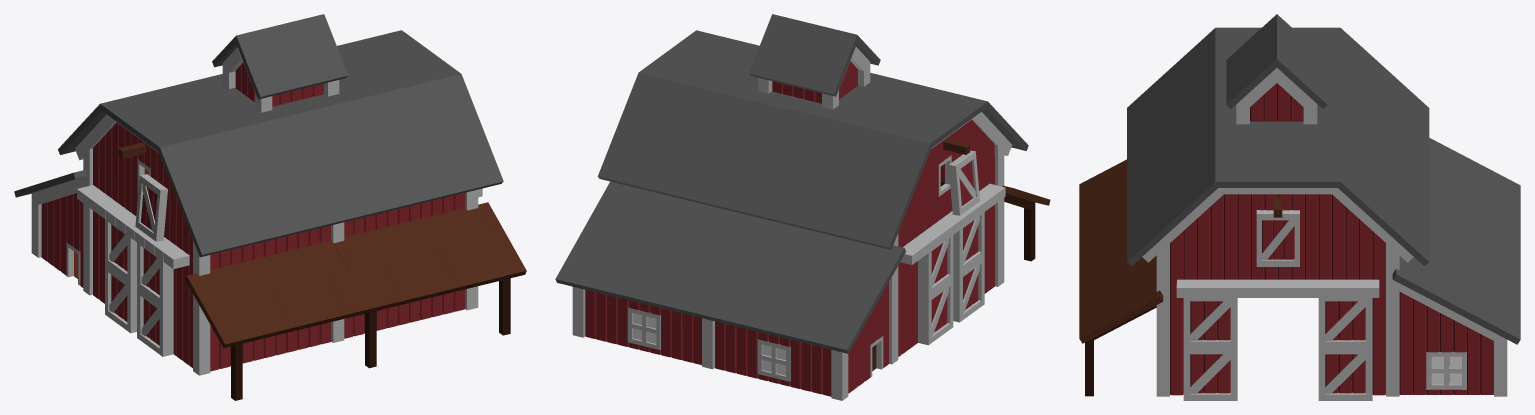
Rendered from barn.fbx.
The picture shows the model from 3 angles, left to right: view 1: azimuth 30°, elevation 25°; view 2: azimuth 150°, elevation 25°; view 3: azimuth 270°, elevation 25°; orthographic projection. The views are drawn at different scales.
Parts seen in each view (by area): view 1: Cube.524, Cube, Cube.1115, Cube.1119, Cube.1120, Cube.494, Cube.504, Cube.514, Cube.528, Cube.1118, Cube.488, Cube.1116 (+38 smaller); view 2: Cube.532, Cube.492, Cube.913, Cube.909, Cube.918, Cube.914, Cube.502, Cube.522, Cube.512, Cube.531, Cube.491, Cube.912 (+52 smaller); view 3: Cube.1119, Cube.909, Cube.914, Cube.487, Cube.492, Cube, Cube.918, Cube.1115, Cube.913, Cube.490, Cube.488, Cube.491 (+114 smaller).
Boxes of the visible parts, x1=… form: Cube.524: x1=183, y1=195, x2=268, y2=257; Cube: x1=419, y1=138, x2=503, y2=199; Cube.1115: x1=203, y1=291, x2=291, y2=347; Cube.1119: x1=439, y1=233, x2=526, y2=290; Cube.1120: x1=254, y1=240, x2=349, y2=290; Cube.494: x1=364, y1=154, x2=436, y2=213; Cube.504: x1=308, y1=168, x2=380, y2=227; Cube.514: x1=252, y1=181, x2=324, y2=240; Cube.528: x1=169, y1=160, x2=251, y2=213; Cube.1118: x1=383, y1=250, x2=459, y2=304; Cube.488: x1=406, y1=103, x2=486, y2=153; Cube.1116: x1=271, y1=277, x2=347, y2=331; Cube.532: x1=824, y1=190, x2=907, y2=249; Cube.492: x1=598, y1=134, x2=678, y2=194; Cube.913: x1=782, y1=298, x2=868, y2=353; Cube.909: x1=555, y1=243, x2=640, y2=298; Cube.918: x1=802, y1=262, x2=888, y2=317; Cube.914: x1=576, y1=207, x2=660, y2=258; Cube.502: x1=662, y1=150, x2=732, y2=207; Cube.522: x1=770, y1=177, x2=840, y2=234; Cube.512: x1=716, y1=163, x2=786, y2=220; Cube.531: x1=841, y1=156, x2=920, y2=207; Cube.491: x1=614, y1=101, x2=691, y2=150; Cube.912: x1=728, y1=285, x2=802, y2=337; Cube.1119: x1=1079, y1=281, x2=1126, y2=343; Cube.909: x1=1474, y1=282, x2=1520, y2=344; Cube.914: x1=1430, y1=259, x2=1476, y2=321; Cube.487: x1=1240, y1=147, x2=1280, y2=187; Cube.492: x1=1389, y1=195, x2=1429, y2=265; Cube: x1=1127, y1=196, x2=1166, y2=266; Cube.918: x1=1433, y1=139, x2=1476, y2=196; Cube.1115: x1=1079, y1=161, x2=1122, y2=218; Cube.913: x1=1477, y1=162, x2=1520, y2=219; Cube.490: x1=1331, y1=147, x2=1364, y2=207; Cube.488: x1=1162, y1=170, x2=1195, y2=233; Cube.491: x1=1360, y1=169, x2=1393, y2=233.
Size of the model in its own units: 5746 by 4725 by 6543.
